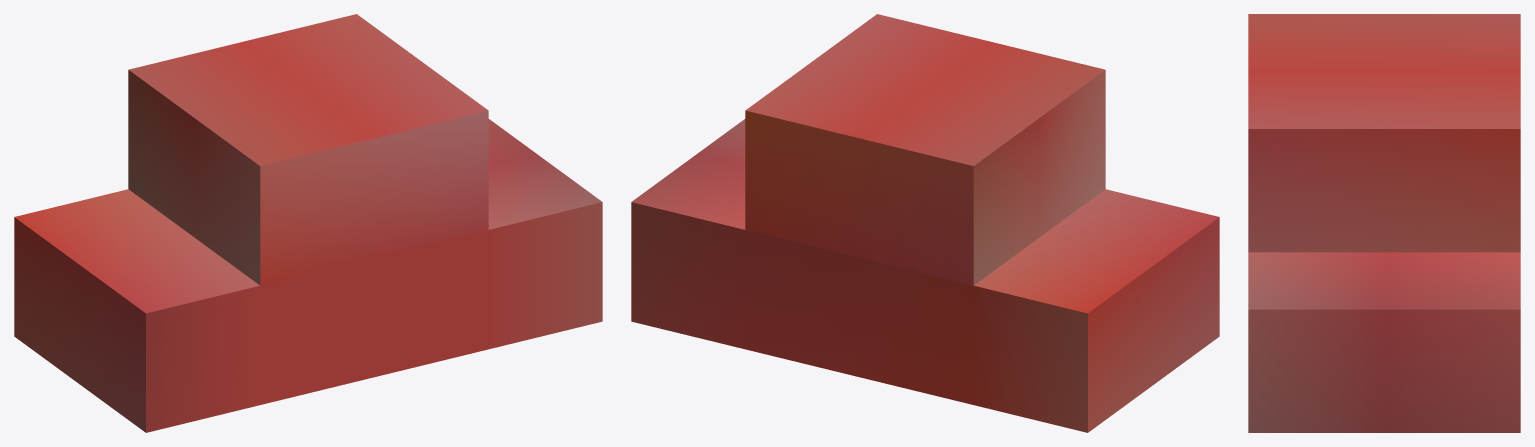
The model's file is ToyCar_02.fbx.
3 renders of one model, left to right at view 1: azimuth 30°, elevation 25°; view 2: azimuth 150°, elevation 25°; view 3: azimuth 270°, elevation 25°, orthographic. The views are drawn at different scales.
Visible parts, largest first — view 1: ToyCar_02; view 2: ToyCar_02; view 3: ToyCar_02.
Boxes of the visible parts, box(x1,y1,x2,y2) form: ToyCar_02: box(14, 14, 602, 432); ToyCar_02: box(631, 14, 1219, 432); ToyCar_02: box(1248, 14, 1520, 432).
Size of the model in its own units: 20 by 10 by 10.
1 material, 1 textured.
